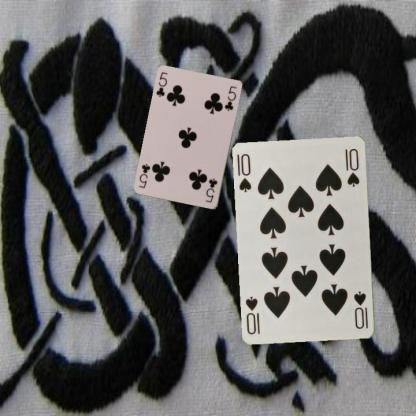10s: (351, 288, 370, 330), (236, 152, 253, 194)
5c: (203, 176, 218, 204), (154, 70, 169, 98)
